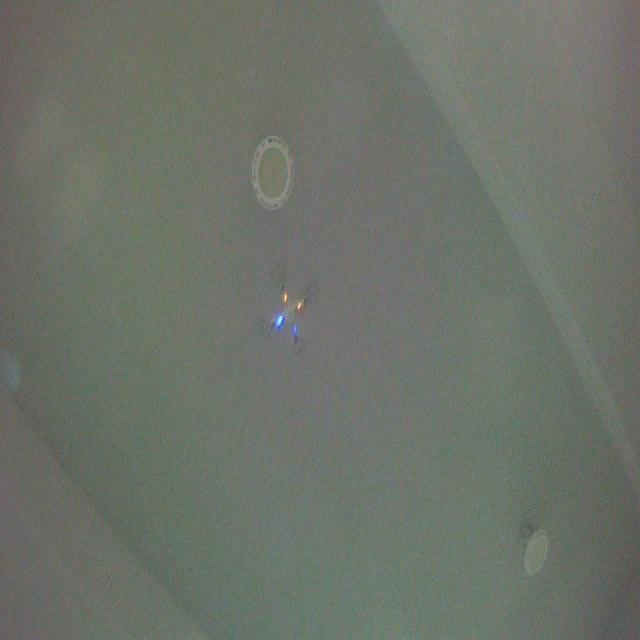drone: (259, 260, 319, 358)
